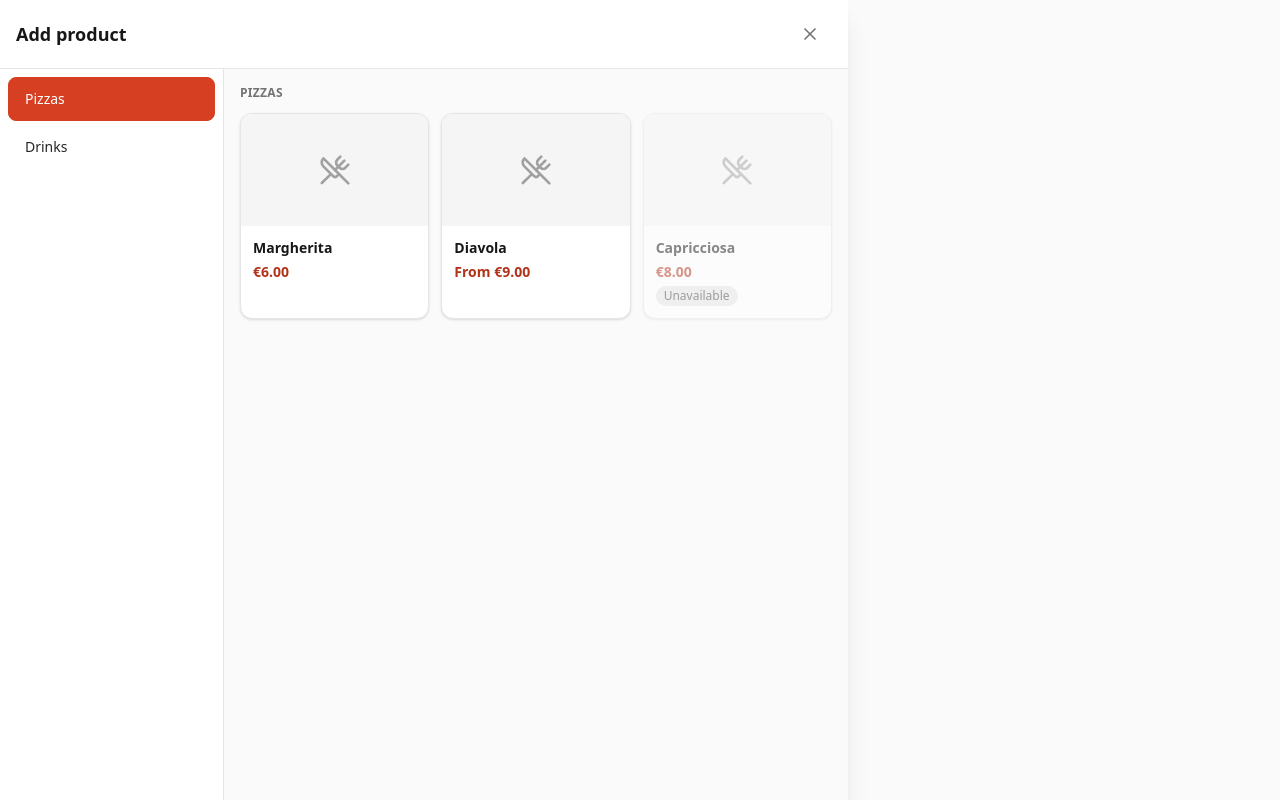
MenuTableauPanel › loads the products of the category picked in the sidebar
The width and height of the screenshot is (1280, 800).
Click the button "Drinks".
click(112, 147)  # box [8,125,215,169]
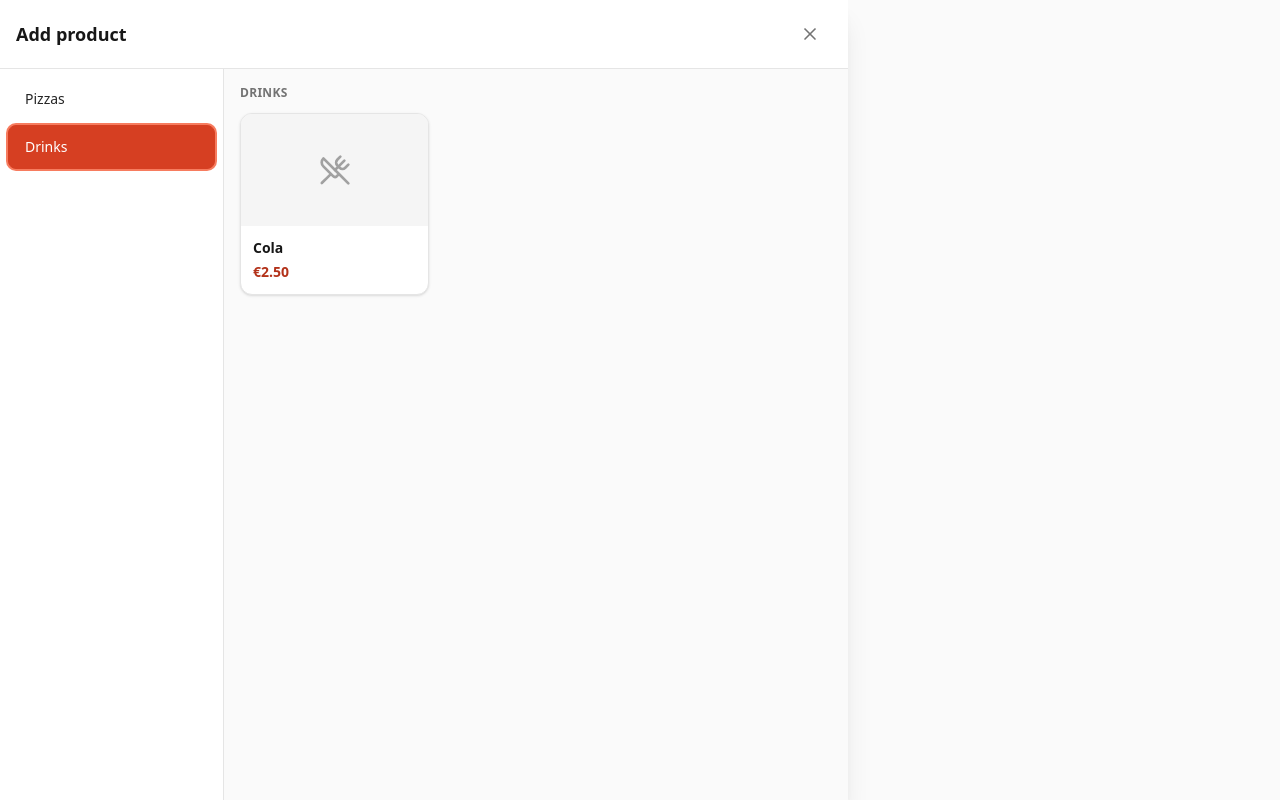
Expected: the text "Cola" is shown, [253,238,283,257]
Expected: the button "Margherita" is gone
